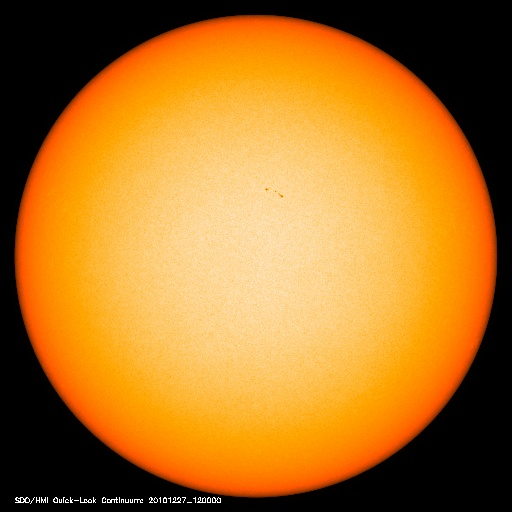sunspot: (255, 179, 291, 204)
